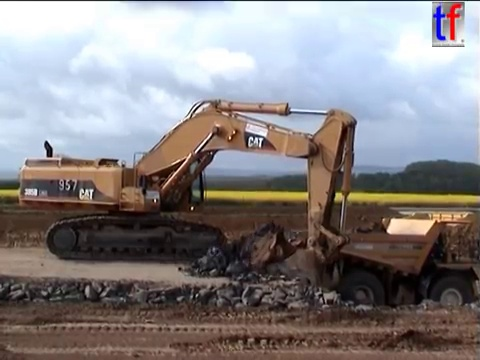excavator: (15, 94, 359, 294)
truck: (279, 208, 480, 323)
